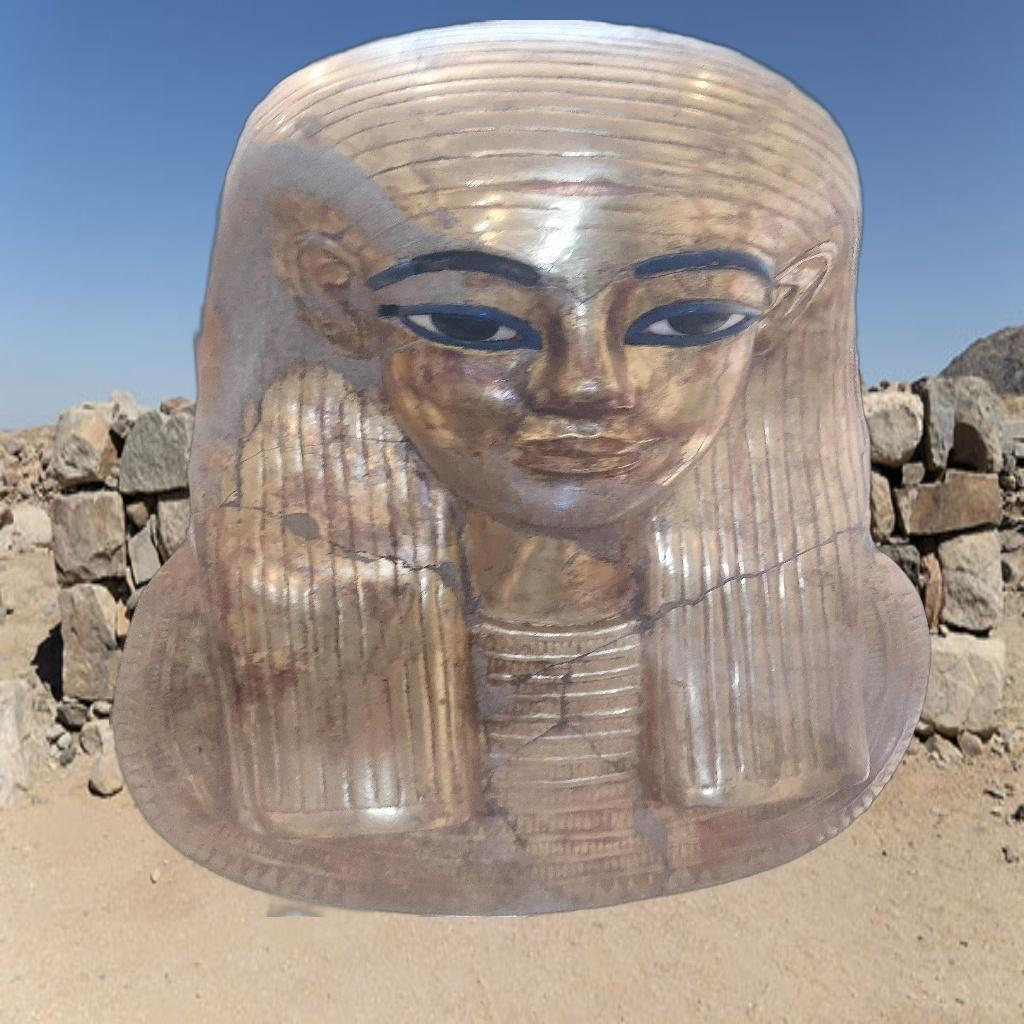Mask of Yuya: (109, 20, 934, 916)
